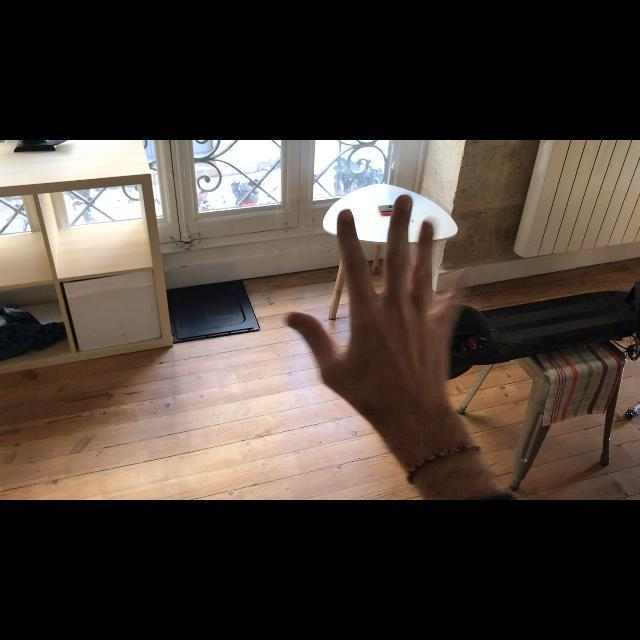bare_hand: (284, 193, 471, 408)
